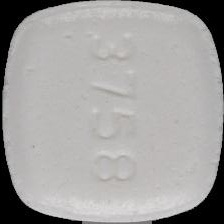53808-0379: (0, 0, 224, 224)
